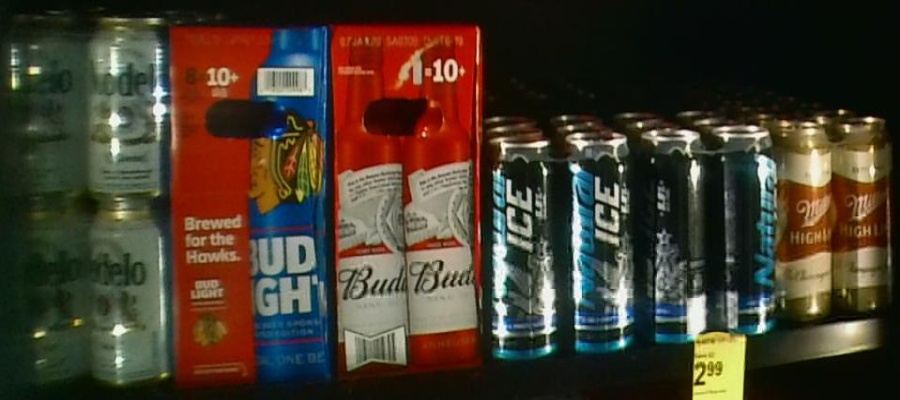bottle: (4, 16, 168, 385), (169, 21, 335, 383), (332, 21, 481, 373), (489, 136, 634, 357), (639, 133, 776, 335), (780, 125, 896, 321)
